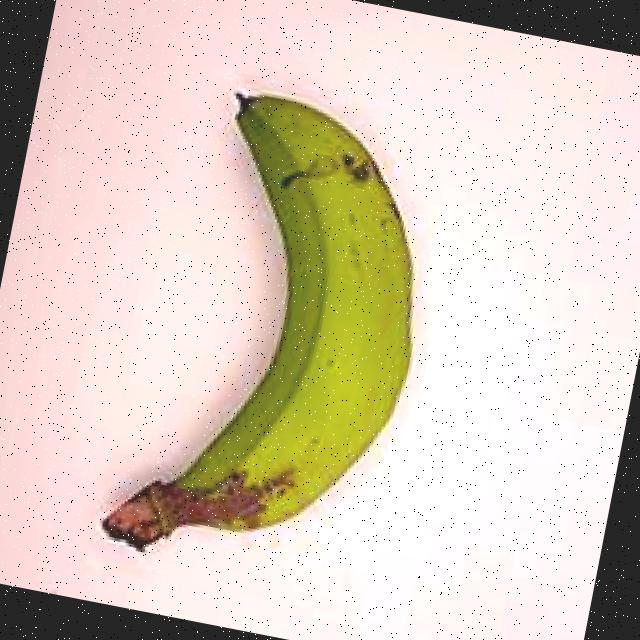Raw: (39, 48, 497, 626)
